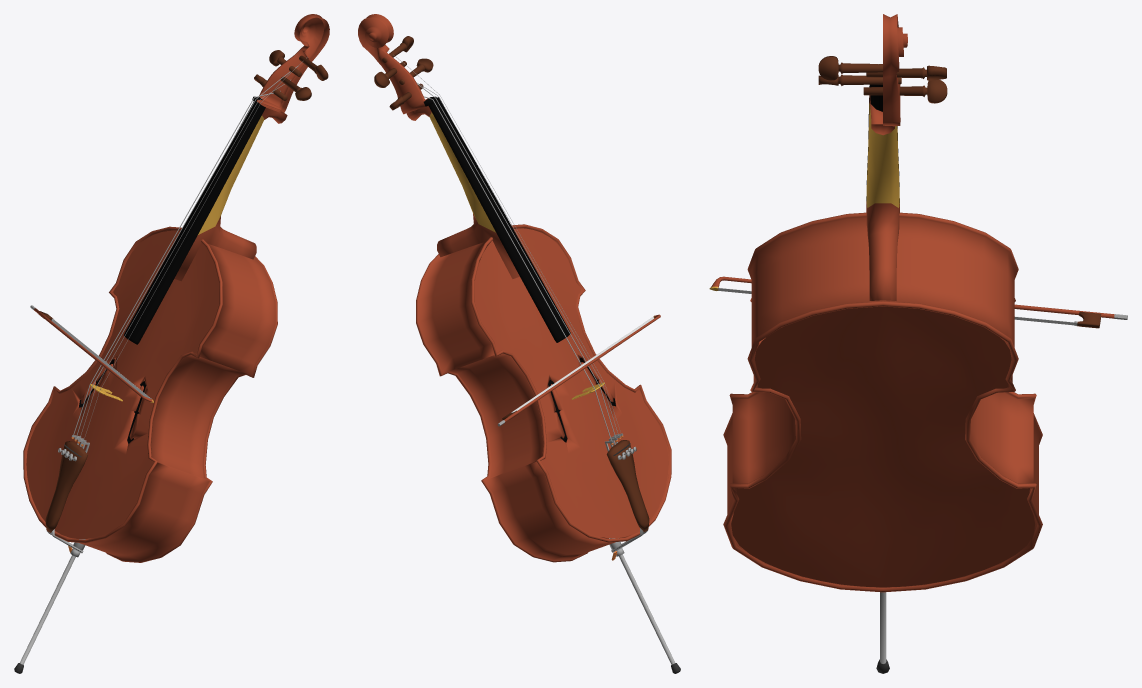
The model's file is celloOld.fbx.
The picture shows the model from 3 angles, left to right: view 1: azimuth 30°, elevation 25°; view 2: azimuth 150°, elevation 25°; view 3: azimuth 270°, elevation 25°; orthographic projection. The views are drawn at different scales.
Parts seen in each view (by area): view 1: soundboards, body, neck, headstock, bridge.000, bow, foot, string.c, string.g; view 2: soundboards, body, neck, headstock, bridge.000, bow, foot, string.c, string.g; view 3: soundboards, body, neck, headstock, bow, peg.c, peg.d, peg.g, foot.
Part boxes in pixels (left/top/right/bottom): soundboards: left=26, top=230, right=219, bottom=538; body: left=23, top=226, right=277, bottom=562; neck: left=124, top=101, right=287, bottom=344; headstock: left=252, top=14, right=329, bottom=112; bridge.000: left=45, top=441, right=87, bottom=532; bow: left=30, top=305, right=153, bottom=402; foot: left=14, top=539, right=84, bottom=673; string.c: left=73, top=91, right=280, bottom=435; string.g: left=75, top=66, right=298, bottom=439; soundboards: left=474, top=228, right=668, bottom=538; body: left=416, top=224, right=671, bottom=562; neck: left=406, top=97, right=570, bottom=342; headstock: left=358, top=14, right=437, bottom=114; bridge.000: left=606, top=440, right=649, bottom=532; bow: left=497, top=314, right=660, bottom=426; foot: left=610, top=538, right=680, bottom=673; string.c: left=424, top=96, right=611, bottom=440; string.g: left=417, top=83, right=616, bottom=440; soundboards: left=731, top=306, right=1034, bottom=587; body: left=723, top=212, right=1042, bottom=592; neck: left=866, top=84, right=899, bottom=300; headstock: left=883, top=14, right=907, bottom=126; bow: left=709, top=276, right=1127, bottom=328; peg.c: left=863, top=79, right=947, bottom=103; peg.d: left=818, top=56, right=898, bottom=80; peg.g: left=866, top=65, right=946, bottom=80; foot: left=876, top=592, right=889, bottom=673.
Bounding box in the file's own units: 249 × 440 × 192.
